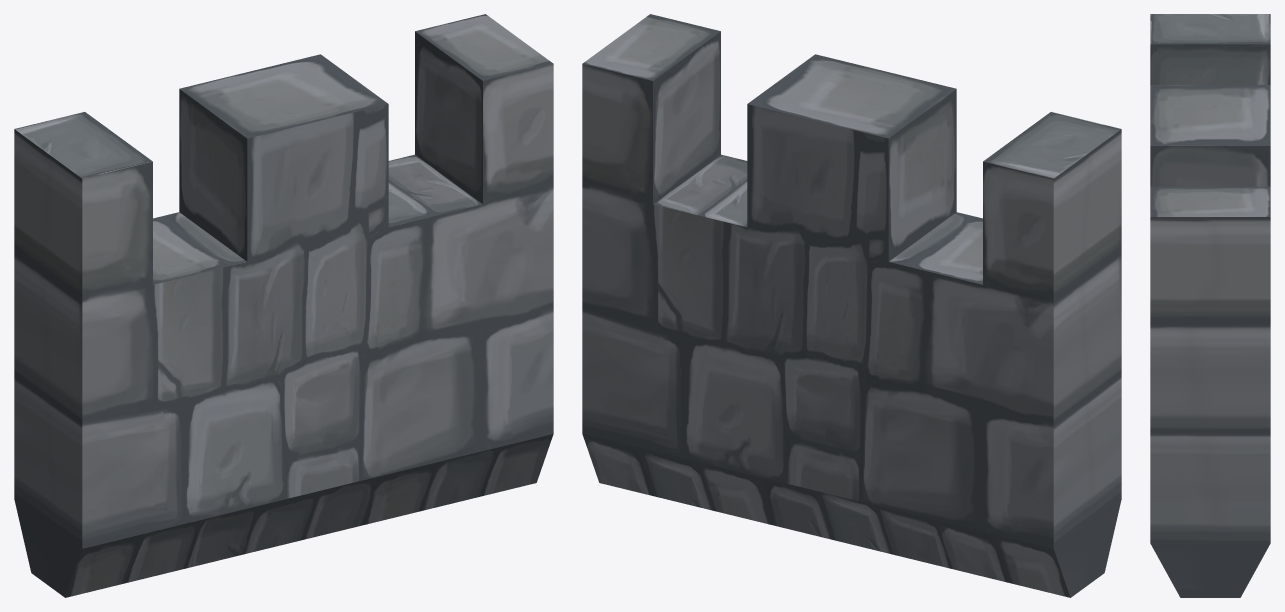
File: Battlement.001.fbx
3 views of the same model, side by side, from view 1: azimuth 30°, elevation 25°; view 2: azimuth 150°, elevation 25°; view 3: azimuth 270°, elevation 25° (orthographic). The views are drawn at different scales.
Visible parts, largest first — view 1: Battlement.001; view 2: Battlement.001; view 3: Battlement.001.
Boxes of the visible parts, x1,y1,x2,y2 form: Battlement.001: [14, 14, 553, 597]; Battlement.001: [582, 14, 1121, 597]; Battlement.001: [1150, 14, 1270, 597].
Bounding box in the file's own units: 200 × 175 × 50.
